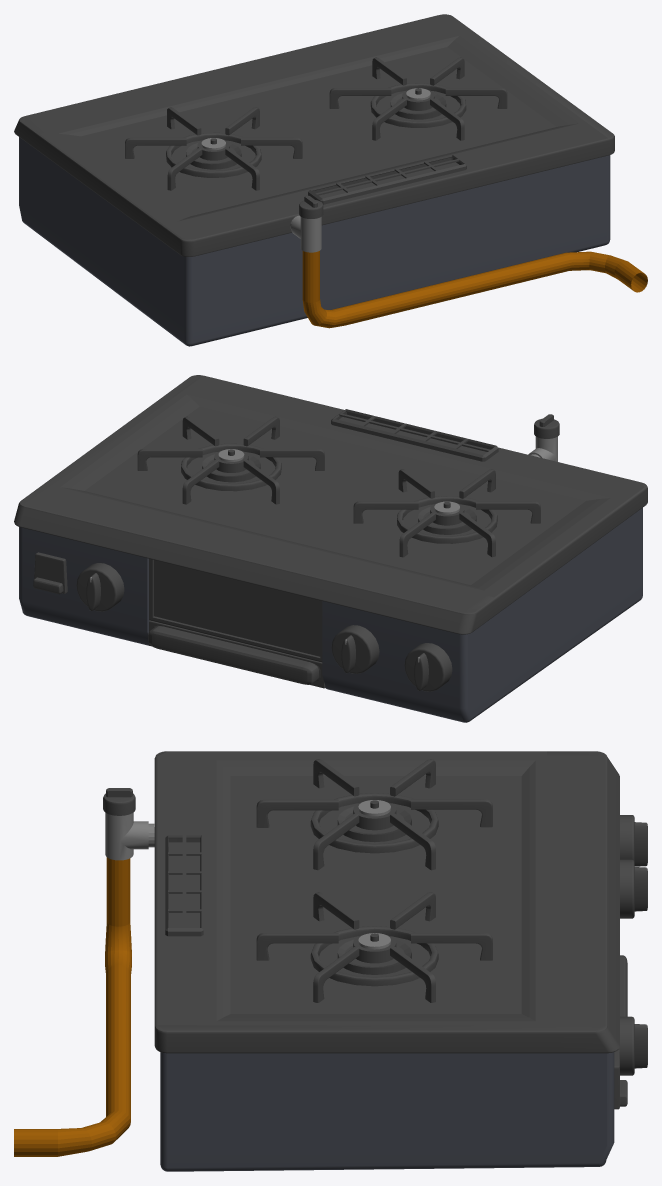
Rendered from GasStove.fbx.
The picture shows the model from 3 angles, top to bottom: view 1: azimuth 30°, elevation 25°; view 2: azimuth 150°, elevation 25°; view 3: azimuth 270°, elevation 25°; orthographic projection. The views are drawn at different scales.
Parts seen in each view (by area): view 1: polySurface2, polySurface5, pCylinder12, pCube16, pCube17 (×2), pCube20 (×2), pCylinder14, pCylinder13, pCylinder3 (×2), polySurface7; view 2: polySurface2, polySurface4, polySurface5, pCube3, pCylinder1 (×3), pCube5, pCube16, pCube21 (×2), pCube18 (×2), pCylinder14, pCylinder13, pCylinder3 (×2) (+7 smaller); view 3: polySurface2, polySurface5, pCylinder12, pCylinder1 (×3), pCube19 (×2), pCylinder14, pCube16, pCylinder13, pCylinder3 (×2), polySurface7, pCube20 (×2), pCube21 (×2) (+10 smaller).
Boxes of the visible parts, box(x1,y1,x2,y2) form: polySurface2: box(14, 14, 614, 256); polySurface5: box(19, 137, 610, 346); pCylinder12: box(302, 251, 647, 328); pCube16: box(308, 155, 466, 204); pCube17 (×2): box(125, 88, 391, 158); pCube20 (×2): box(241, 88, 507, 158); pCylinder14: box(166, 132, 261, 177); pCylinder13: box(370, 83, 466, 127); pCylinder3 (×2): box(186, 93, 446, 169); polySurface7: box(290, 215, 321, 252); polySurface2: box(14, 375, 647, 634); polySurface4: box(19, 527, 470, 722); polySurface5: box(468, 508, 642, 720); pCube3: box(149, 558, 322, 662); pCylinder1 (×3): box(76, 563, 452, 691); pCube5: box(148, 625, 320, 684); pCube16: box(331, 409, 498, 461); pCube21 (×2): box(137, 449, 418, 523); pCube18 (×2): box(260, 449, 540, 523); pCylinder14: box(397, 496, 497, 543); pCylinder13: box(181, 443, 281, 491); pCylinder3 (×2): box(202, 454, 476, 534); polySurface2: box(154, 751, 619, 1053); polySurface5: box(160, 1052, 606, 1171); pCylinder12: box(14, 857, 131, 1156); pCylinder1 (×3): box(618, 815, 634, 1075); pCube19 (×2): box(256, 799, 338, 960); pCylinder14: box(310, 793, 438, 853); pCube16: box(165, 835, 203, 936); pCylinder13: box(310, 926, 438, 986); pCylinder3 (×2): box(337, 806, 411, 974); polySurface7: box(105, 812, 154, 860); pCube20 (×2): box(313, 813, 359, 1002); pCube21 (×2): box(390, 813, 435, 1002).
Bounding box in the file's own units: 69.69 × 20.72 × 66.34.
